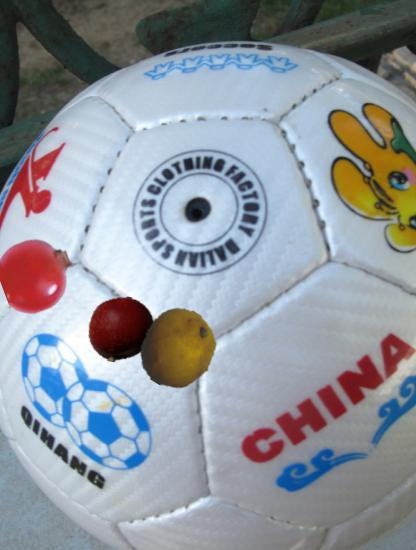Lemon: (137, 308, 218, 389)
Nectarine: (88, 296, 156, 364)
Redcurrant: (0, 237, 76, 313)
